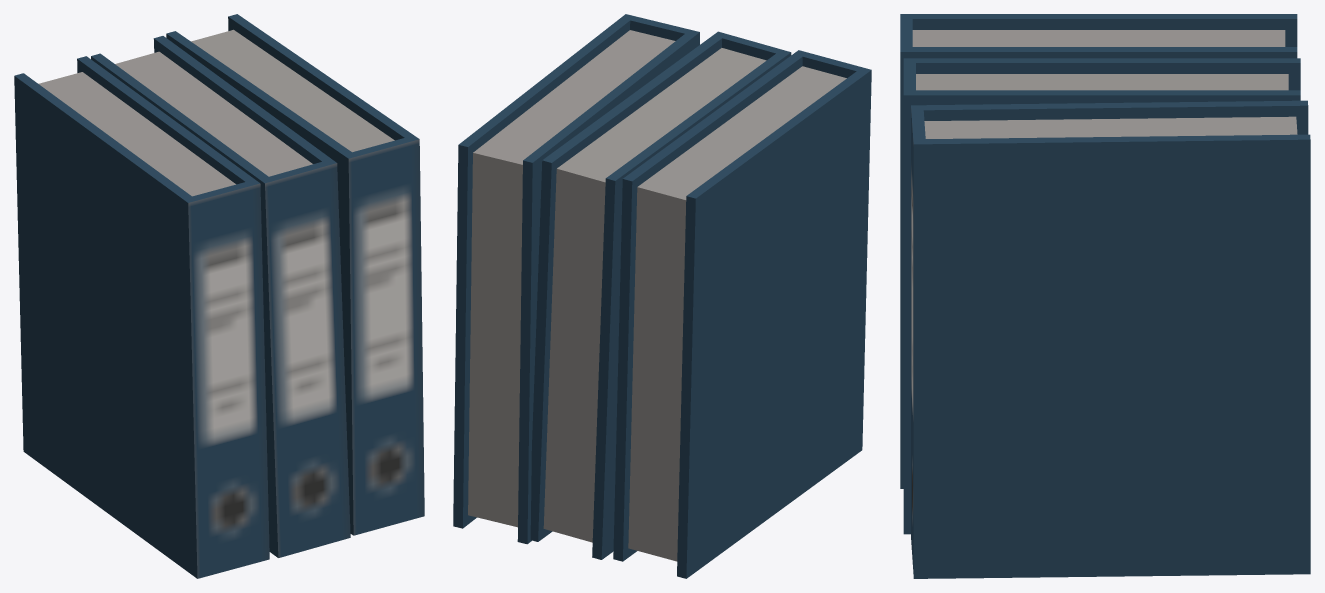
The model's file is SM_Props_Interior_Generic_Office_File_Large_Preset_01.fbx.
3 views of the same model, side by side, from view 1: azimuth 30°, elevation 25°; view 2: azimuth 150°, elevation 25°; view 3: azimuth 270°, elevation 25° (orthographic). The views are drawn at different scales.
Parts seen in each view (by area): view 1: SM_Props_Interior_Generic_Office_File_Large_Preset_01; view 2: SM_Props_Interior_Generic_Office_File_Large_Preset_01; view 3: SM_Props_Interior_Generic_Office_File_Large_Preset_01.
Part boxes in pixels (box(x1,y1,x2,y2)): SM_Props_Interior_Generic_Office_File_Large_Preset_01: box(14, 14, 424, 578); SM_Props_Interior_Generic_Office_File_Large_Preset_01: box(453, 14, 871, 578); SM_Props_Interior_Generic_Office_File_Large_Preset_01: box(900, 14, 1310, 578).
Bounding box in the file's own units: 40.24 × 60.41 × 51.69.
